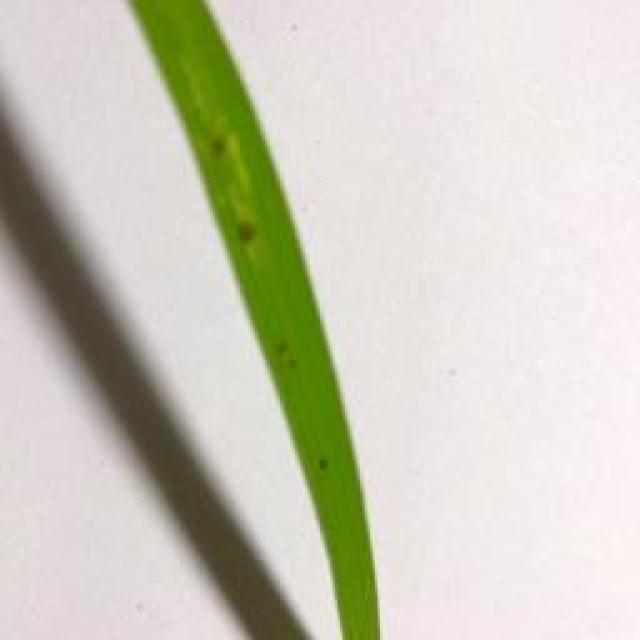Brown_Spot: (270, 346, 302, 378), (200, 128, 228, 161), (232, 220, 256, 248), (317, 453, 332, 471)
